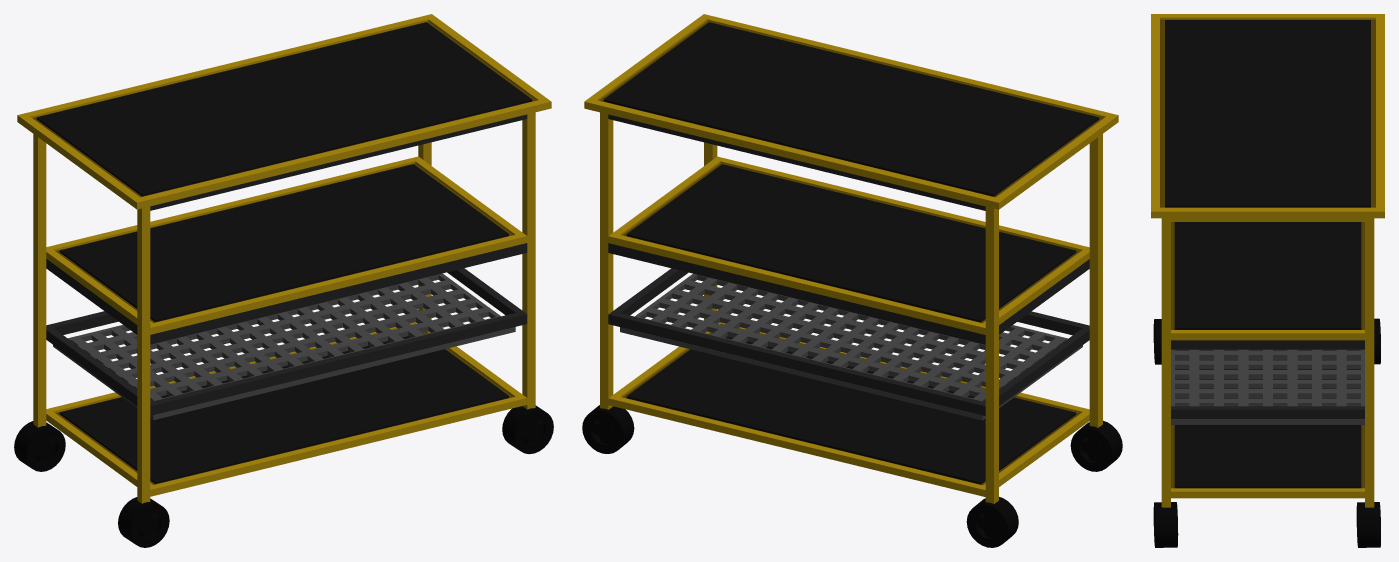
The model's file is Trolley_011.glb.
3 renders of one model, left to right at view 1: azimuth 30°, elevation 25°; view 2: azimuth 150°, elevation 25°; view 3: azimuth 270°, elevation 25°, orthographic. The views are drawn at different scales.
Parts seen in each view (by area): view 1: Mesh_Trolley_011; view 2: Mesh_Trolley_011; view 3: Mesh_Trolley_011.
Part boxes in pixels (x1=…): Mesh_Trolley_011: x1=14, y1=14, x2=553, y2=547; Mesh_Trolley_011: x1=582, y1=14, x2=1122, y2=547; Mesh_Trolley_011: x1=1151, y1=14, x2=1384, y2=547.
Size of the model in its own units: 0.9037 by 0.7093 by 0.44.
Materials: 1 (1 with a texture image).
